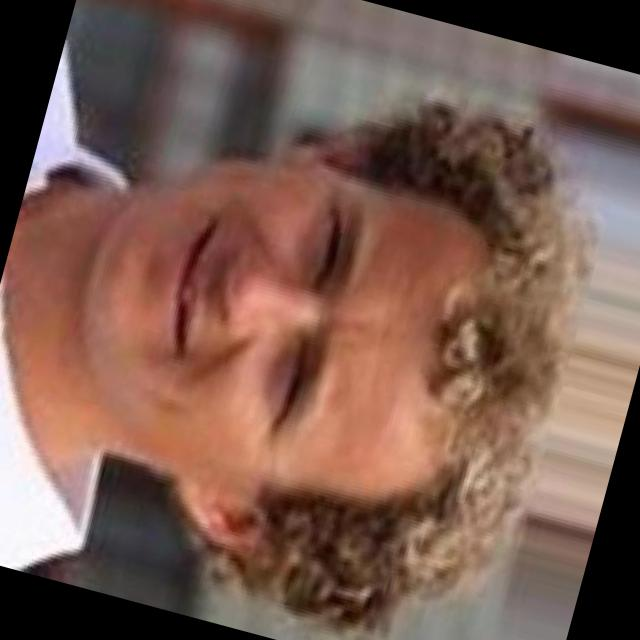bareface: (39, 70, 542, 554)
